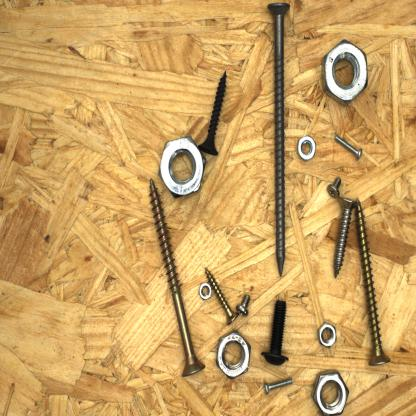screw: (148, 175, 208, 380), (265, 3, 293, 278), (356, 192, 392, 370), (195, 67, 229, 157), (331, 194, 358, 280), (205, 264, 240, 327), (260, 297, 291, 368), (332, 132, 365, 162), (262, 375, 294, 397), (325, 174, 344, 199), (236, 291, 252, 316)
